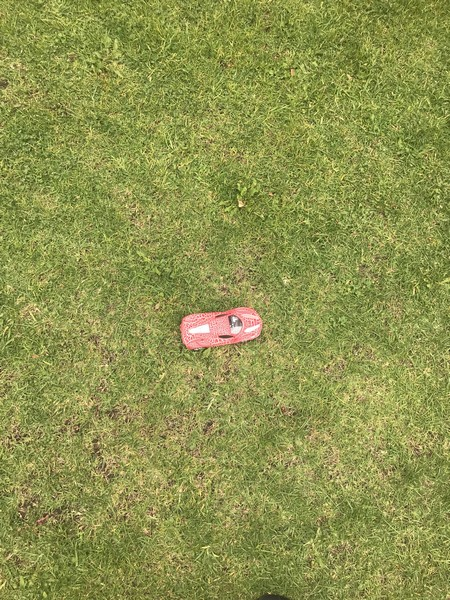RC: (180, 306, 265, 352)
